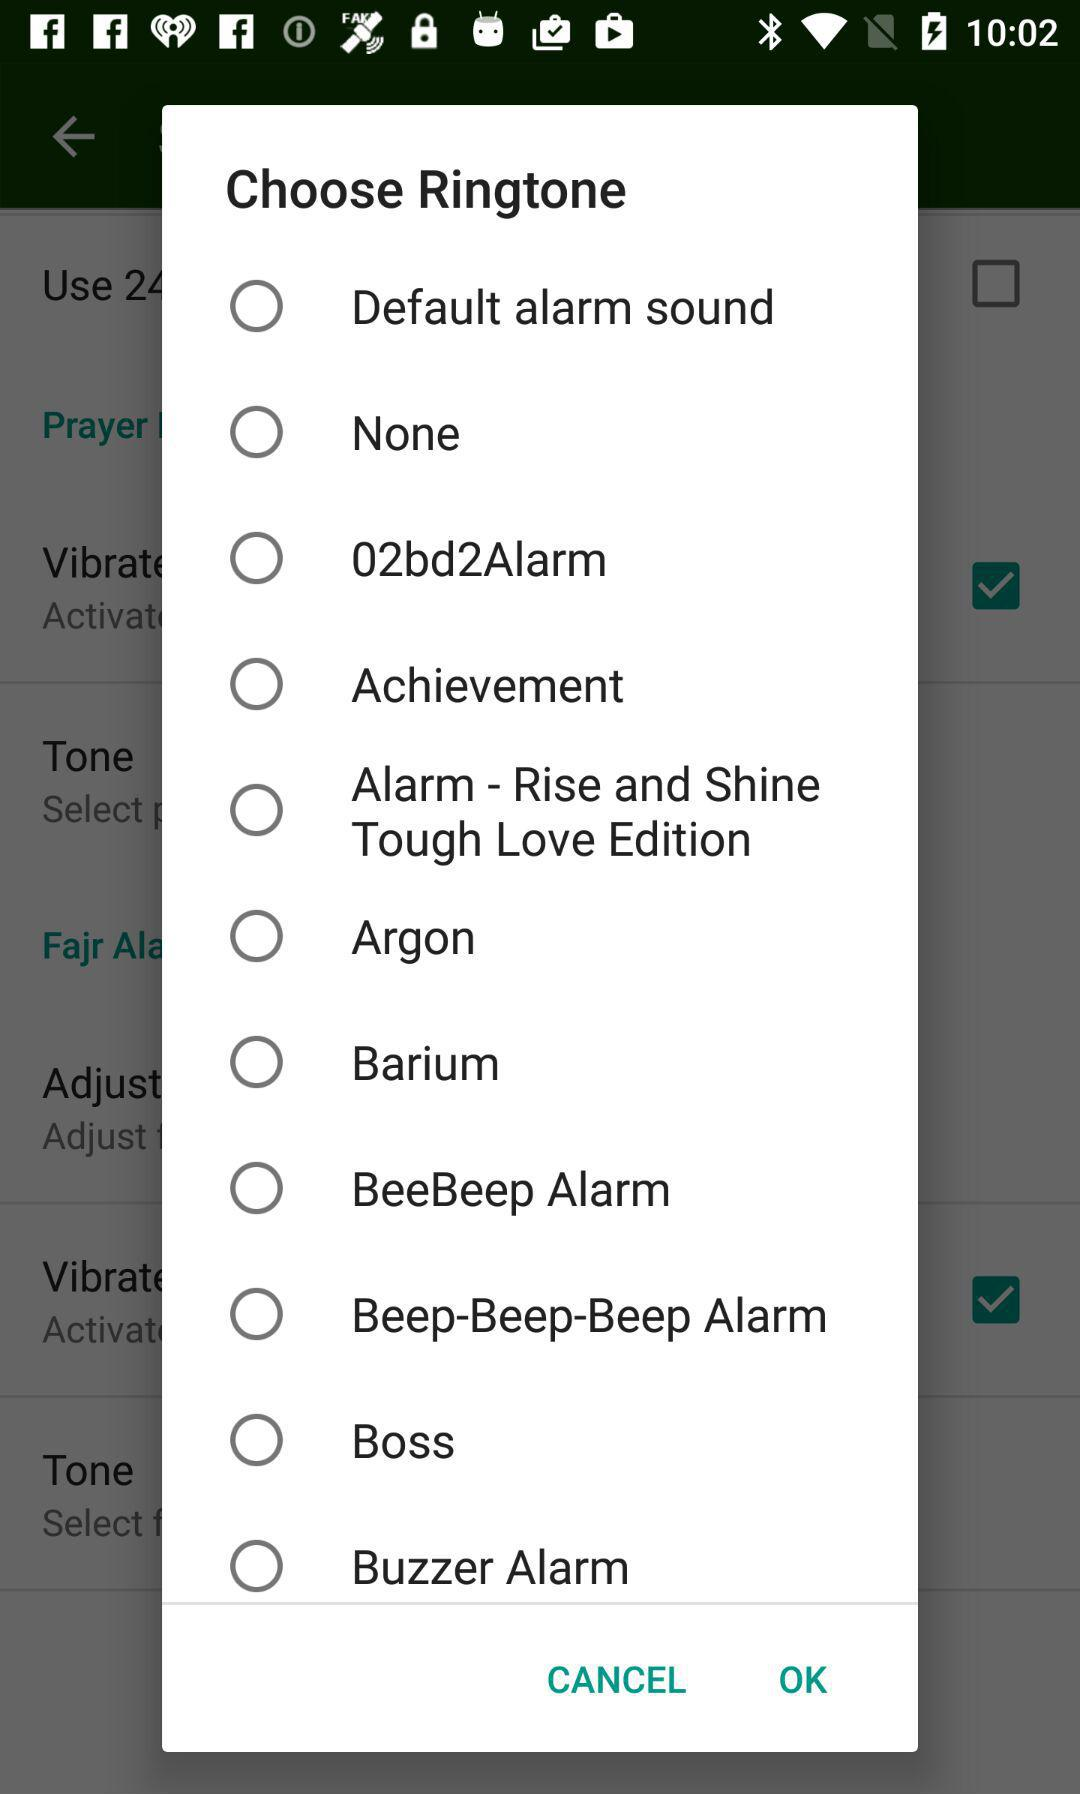CheckedTextView: (231, 764, 822, 869), (231, 1287, 826, 1343), (231, 281, 773, 333), (231, 1161, 669, 1217), (231, 657, 625, 712), (231, 1539, 629, 1593), (231, 532, 606, 586), (231, 1035, 498, 1090), (231, 910, 474, 966), (231, 406, 460, 460), (231, 1413, 455, 1467)
Icon: (51, 115, 96, 159)
Modal: (163, 105, 919, 1752)
Text: (351, 765, 820, 868), (355, 1296, 826, 1343), (227, 168, 626, 220), (355, 287, 773, 327), (355, 1169, 669, 1217), (354, 1547, 629, 1586), (352, 666, 625, 704), (352, 539, 606, 579), (351, 920, 474, 966), (354, 1044, 498, 1082), (548, 1665, 687, 1694), (354, 416, 460, 454), (354, 1422, 455, 1460), (779, 1665, 828, 1694)
UpperTaskBar: (1, 1, 1080, 64)
